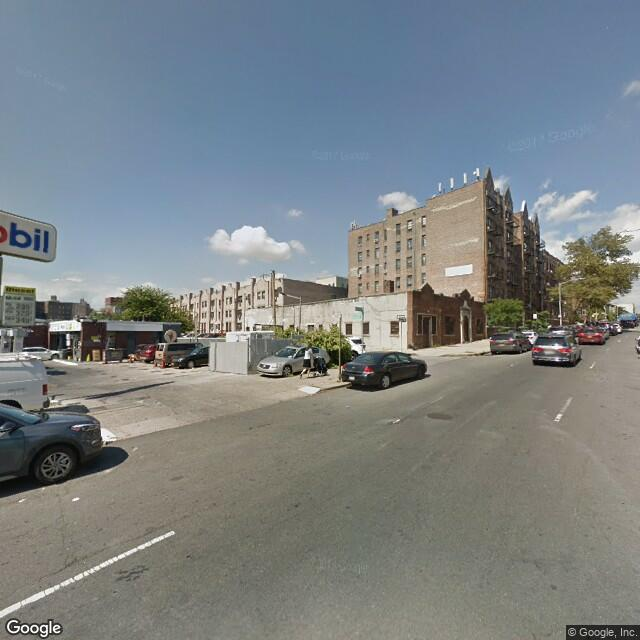litter: (301, 386, 322, 396), (71, 498, 83, 504), (18, 498, 28, 504), (40, 485, 47, 490)
